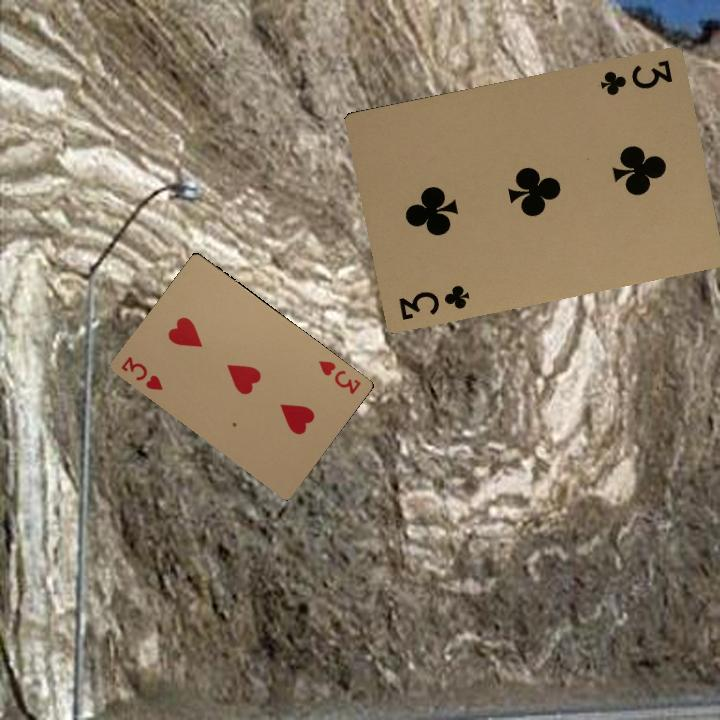3c: (596, 56, 676, 99), (394, 281, 473, 322)
3h: (117, 352, 166, 393), (315, 356, 363, 397)
